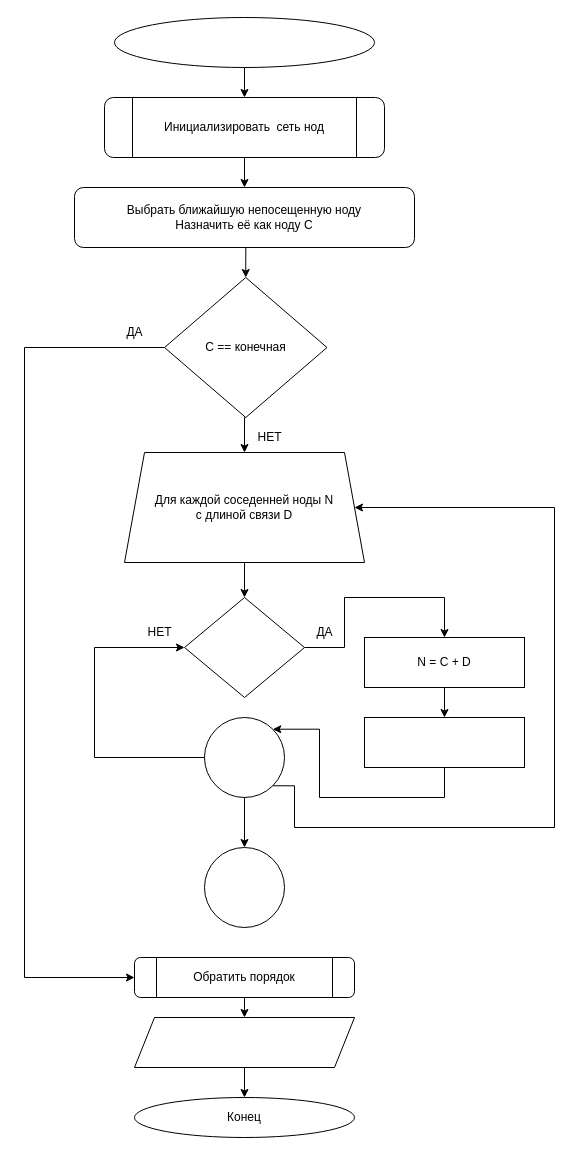
This 580x1155 diagram has some shape labels left out. The centre of each missing label's shape, as x and y in pixels:
"N > C + D" belongs at [244,647].
"N.P = C" belongs at [444,742].
"ДЕЙКСТРА" belongs at [244,42].
"Список нод в пути" belongs at [244,1042].
